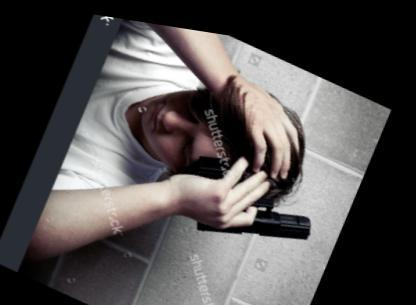pistol: (172, 137, 334, 260)
